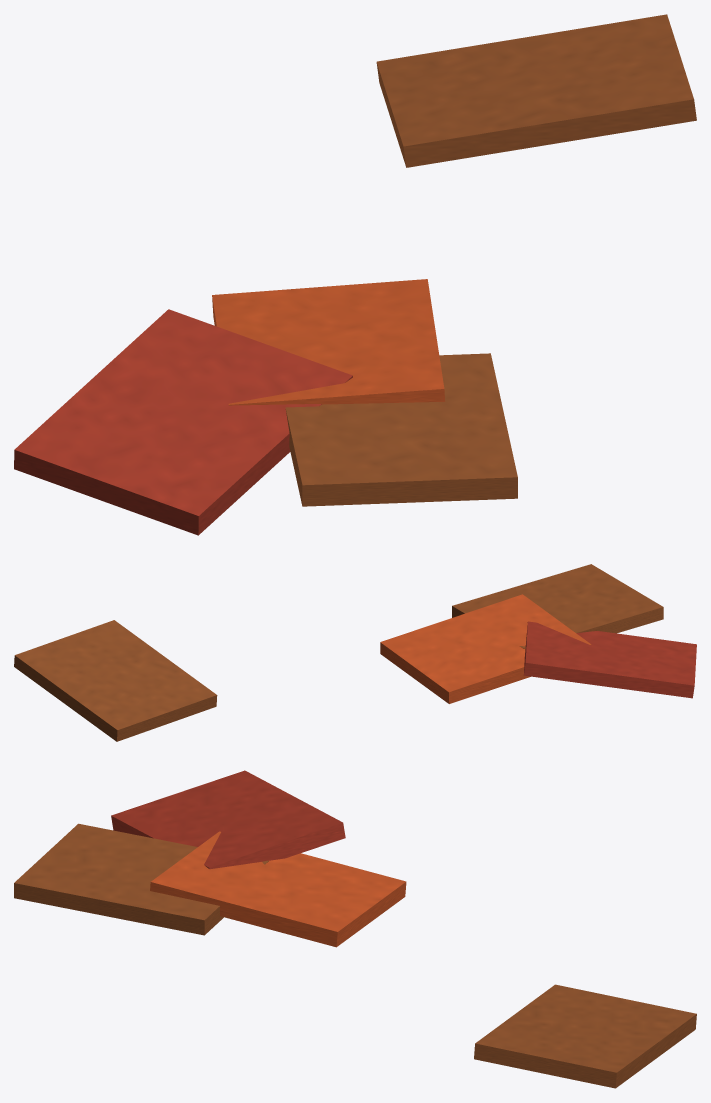
The model's file is Deco_Feuilles_C.obj.
The picture shows the model from 3 angles, top to bottom: view 1: azimuth 30°, elevation 25°; view 2: azimuth 150°, elevation 25°; view 3: azimuth 270°, elevation 25°; orthographic projection. The views are drawn at different scales.
Parts seen in each view (by area): view 1: Deco_Feuilles_C; view 2: Deco_Feuilles_C; view 3: Deco_Feuilles_C.
Boxes of the visible parts, box(x1,y1,x2,y2) form: Deco_Feuilles_C: box(14, 14, 696, 535); Deco_Feuilles_C: box(14, 564, 696, 741); Deco_Feuilles_C: box(14, 770, 696, 1088).
Bounding box in the file's own units: 2.69 × 0.2136 × 2.44.
Materials: 1 (1 with a texture image).
